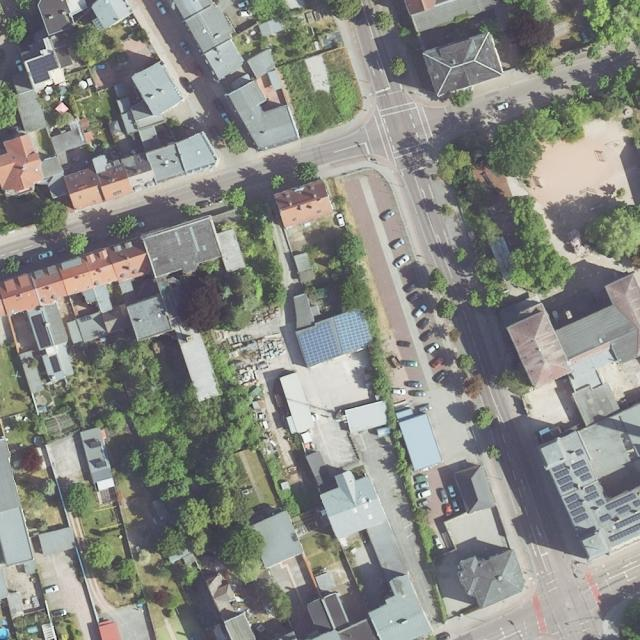PV: (551, 462, 588, 525), (297, 321, 339, 368), (334, 313, 374, 355), (571, 460, 605, 506), (598, 492, 639, 523), (27, 52, 59, 84), (607, 514, 640, 542), (30, 313, 52, 349), (88, 439, 100, 448), (95, 461, 107, 469)
ST: (49, 354, 62, 374)
